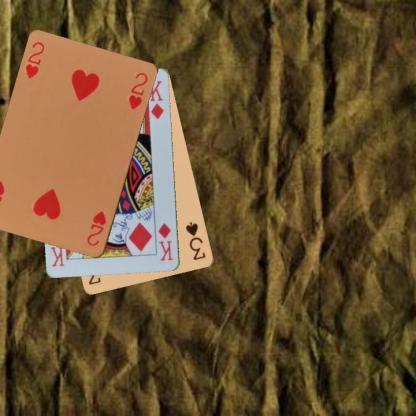2h: (22, 40, 46, 82), (84, 207, 108, 248)
3s: (183, 219, 208, 262)
Kd: (155, 220, 174, 262)
